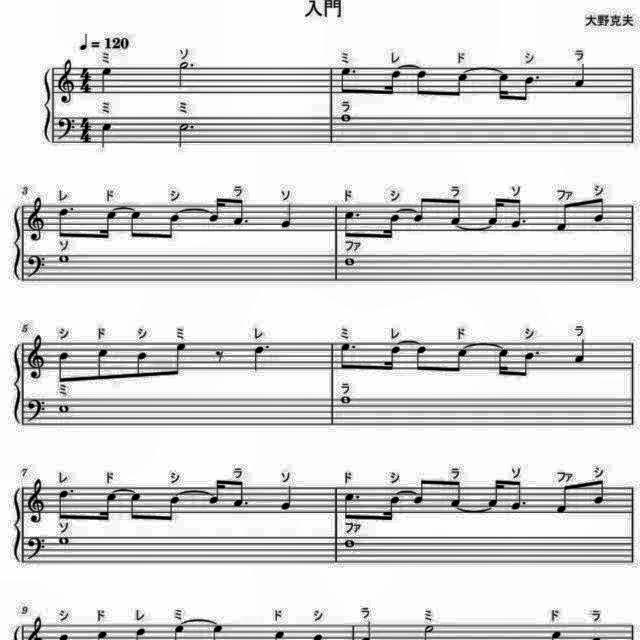Bass-clef: (26, 395, 48, 425), (56, 116, 78, 144), (26, 252, 48, 280), (26, 534, 48, 562)
Eighth-note: (166, 341, 190, 382), (516, 346, 542, 382), (54, 204, 78, 242), (89, 344, 111, 384), (517, 72, 541, 108), (160, 490, 184, 526), (506, 478, 530, 514), (126, 207, 148, 245), (506, 197, 530, 231), (56, 488, 78, 524), (126, 488, 148, 524), (338, 65, 362, 98), (553, 200, 575, 236), (341, 490, 364, 524), (341, 207, 364, 241), (448, 70, 472, 102), (448, 344, 472, 376), (160, 210, 182, 244), (337, 340, 359, 372), (56, 349, 74, 387), (132, 348, 152, 382), (230, 197, 250, 230), (412, 342, 432, 374), (412, 68, 432, 100), (554, 484, 574, 516), (410, 476, 430, 508), (232, 478, 252, 510), (411, 194, 431, 226), (446, 478, 466, 509), (446, 197, 466, 227), (590, 195, 608, 225), (590, 478, 608, 508)
Eighth-rest: (211, 346, 227, 366)
Full-note: (342, 252, 360, 268), (55, 250, 73, 266), (339, 111, 357, 125), (55, 535, 73, 549), (338, 394, 354, 406), (342, 536, 358, 548), (58, 402, 74, 414)
Half-dot: (174, 120, 198, 152), (175, 59, 198, 90)
Quarter-dot: (251, 342, 275, 374)
Quarter-note: (278, 483, 298, 513), (570, 337, 590, 367), (570, 61, 590, 90), (276, 202, 296, 230), (98, 64, 114, 94), (98, 122, 114, 150)
Sixteenth-note: (96, 203, 120, 244), (96, 487, 120, 525), (378, 490, 402, 526), (492, 342, 514, 380), (380, 344, 404, 374), (380, 210, 402, 242), (382, 66, 404, 98), (492, 72, 512, 106), (486, 477, 506, 511), (206, 194, 227, 226), (206, 476, 226, 508), (487, 195, 505, 228)
Treble-clef: (22, 334, 48, 384), (22, 477, 48, 525), (56, 56, 80, 106), (23, 194, 47, 243)
